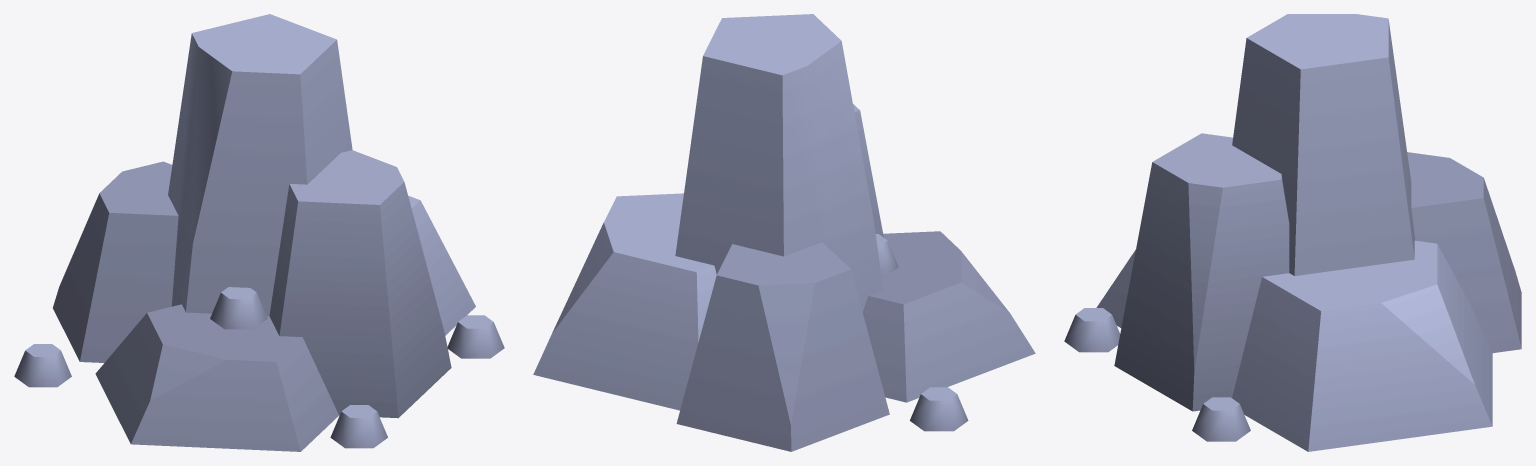
The model's file is rock-large.glb.
3 views of the same model, side by side, from view 1: azimuth 30°, elevation 25°; view 2: azimuth 150°, elevation 25°; view 3: azimuth 270°, elevation 25° (orthographic). The views are drawn at different scales.
Visible parts, largest first — view 1: rock-large; view 2: rock-large; view 3: rock-large.
Part boxes in pixels (x1=…): rock-large: x1=14, y1=14, x2=504, y2=451; rock-large: x1=533, y1=14, x2=1035, y2=451; rock-large: x1=1064, y1=14, x2=1521, y2=451.
Bounding box in the file's own units: 1.67 × 1.16 × 1.55.
1 material, 1 textured.
